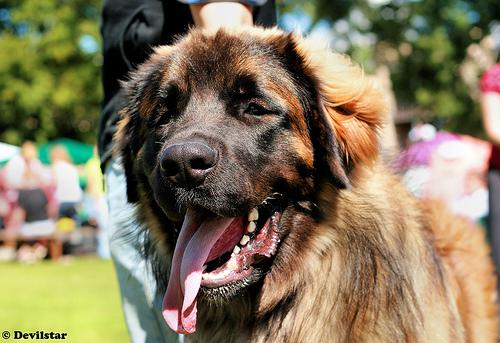dog-leonberger: (121, 23, 378, 333)
